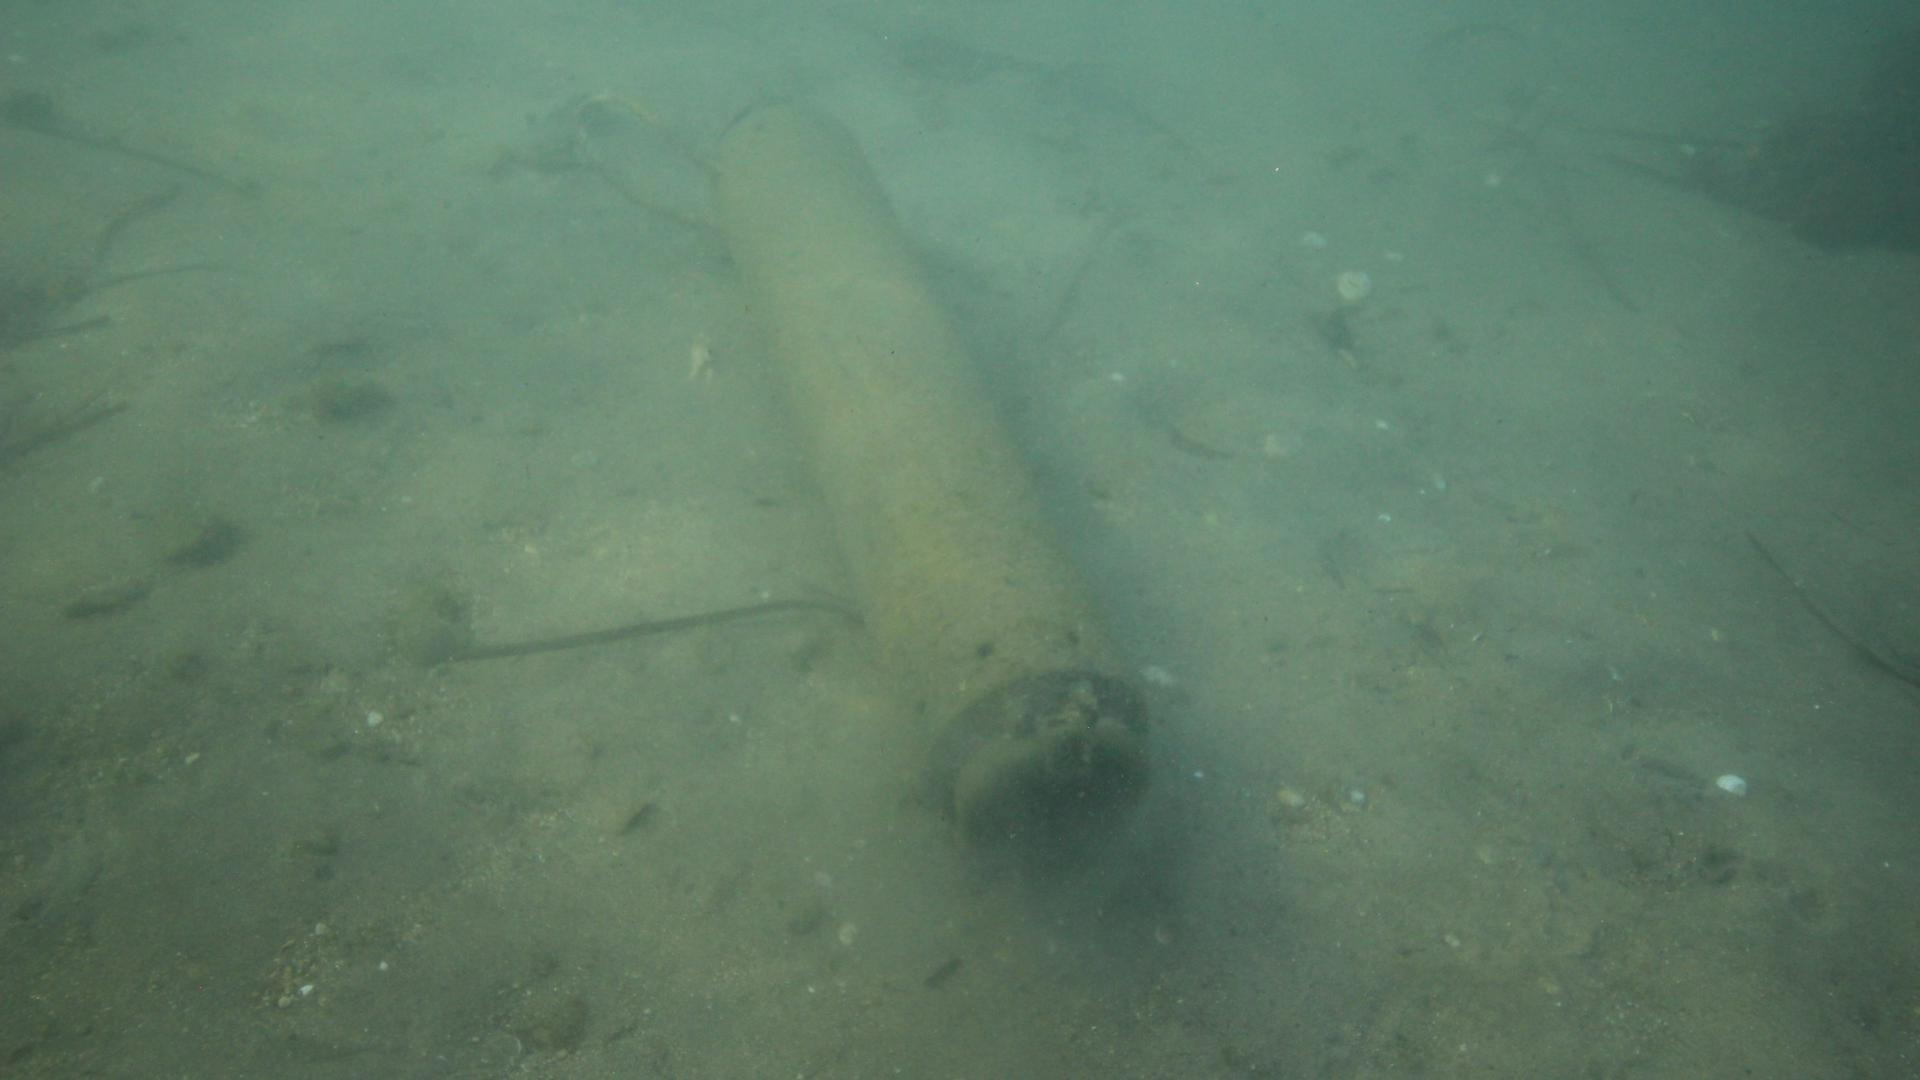eel fish trap: (707, 98, 1150, 866)
rope: (563, 87, 715, 236)
